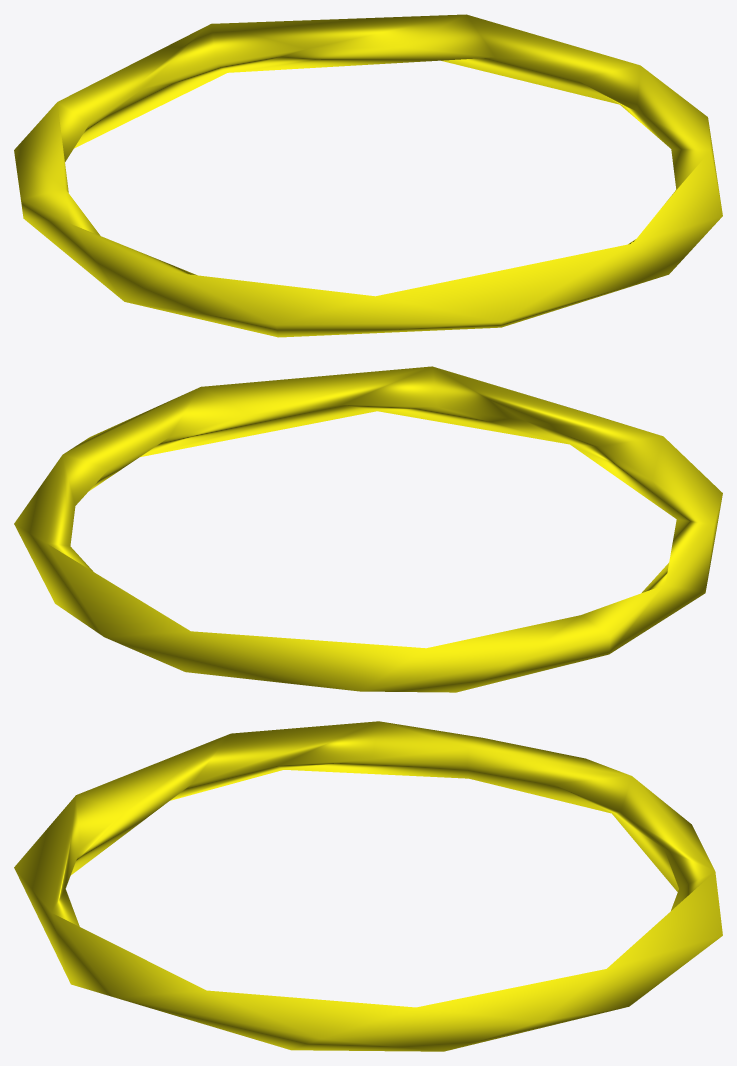
Rendered from highlightring.fbx.
3 views of the same model, one above another, from view 1: azimuth 30°, elevation 25°; view 2: azimuth 150°, elevation 25°; view 3: azimuth 270°, elevation 25° (orthographic).
Visible parts, largest first — view 1: pTorus1; view 2: pTorus1; view 3: pTorus1.
Part boxes in pixels (x1,y1,x2,y2): pTorus1: (14,14,722,337); pTorus1: (14,366,722,692); pTorus1: (14,721,722,1051).
Size of the model in its own units: 87.68 by 6.84 by 88.54.
